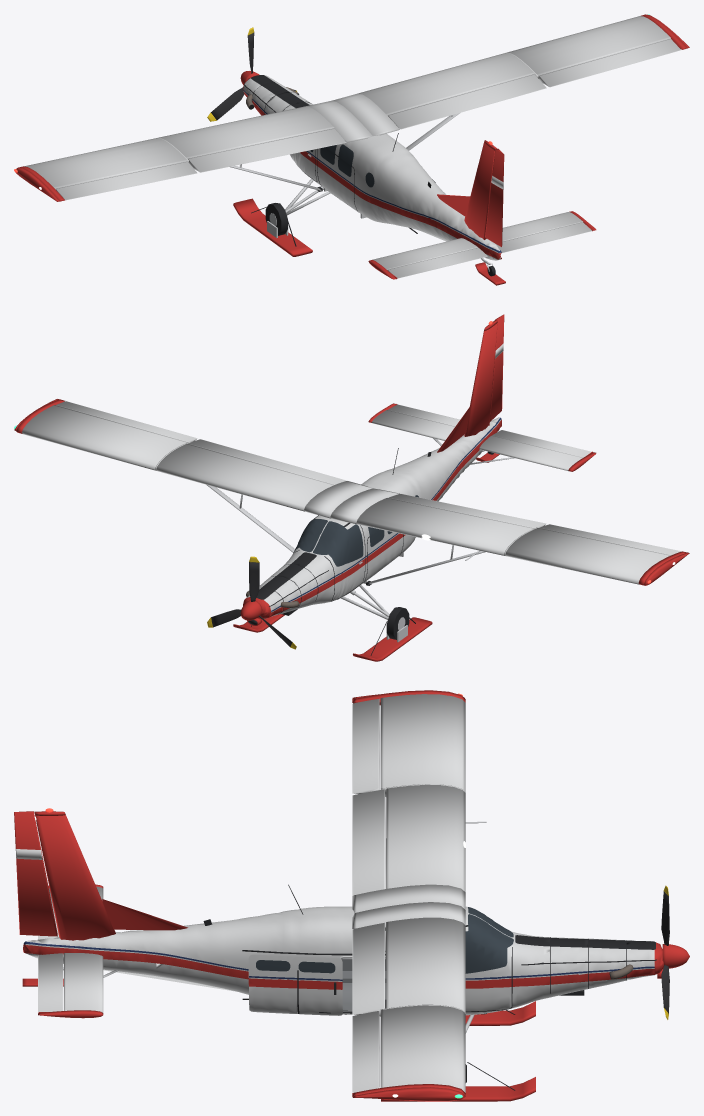
3 views of the same model, one above another, from view 1: azimuth 30°, elevation 25°; view 2: azimuth 150°, elevation 25°; view 3: azimuth 270°, elevation 25° (orthographic). The views are drawn at different scales.
Visible parts, largest first — view 1: plane_body, plane_flap_r, plane_flap_l, plane_elevator, plane_aileron_r, plane_aileron_l, plane_rudder, plane_prop; view 2: plane_body, plane_elevator, plane_prop, plane_flap_r, plane_flap_l, plane_aileron_r, plane_rudder, plane_aileron_l; view 3: plane_body, plane_door, plane_rudder, plane_flap_l, plane_flap_r, plane_aileron_l, plane_aileron_r, plane_elevator, plane_prop.
Part boxes in pixels (x1,y1,x2,y2): plane_body: [14, 14, 689, 285]; plane_flap_r: [388, 74, 546, 129]; plane_flap_l: [188, 128, 346, 172]; plane_elevator: [387, 222, 592, 279]; plane_aileron_r: [539, 39, 680, 87]; plane_aileron_l: [56, 161, 197, 200]; plane_rudder: [485, 148, 504, 246]; plane_prop: [207, 27, 296, 121]; plane_body: [14, 320, 689, 661]; plane_elevator: [388, 404, 592, 457]; plane_prop: [207, 556, 296, 649]; plane_flap_r: [188, 439, 346, 484]; plane_flap_l: [388, 494, 546, 528]; plane_aileron_r: [56, 401, 197, 442]; plane_rudder: [490, 314, 504, 421]; plane_aileron_l: [539, 524, 680, 555]; plane_body: [22, 690, 663, 1101]; plane_door: [248, 954, 342, 1015]; plane_rudder: [14, 811, 57, 936]; plane_flap_l: [352, 789, 385, 895]; plane_flap_r: [352, 922, 385, 1016]; plane_aileron_l: [352, 698, 379, 793]; plane_aileron_r: [352, 1011, 379, 1092]; plane_elevator: [38, 888, 63, 1012]; plane_prop: [661, 885, 689, 1019].
Bounding box in the file's own units: 15.95 × 4.61 × 11.33.
